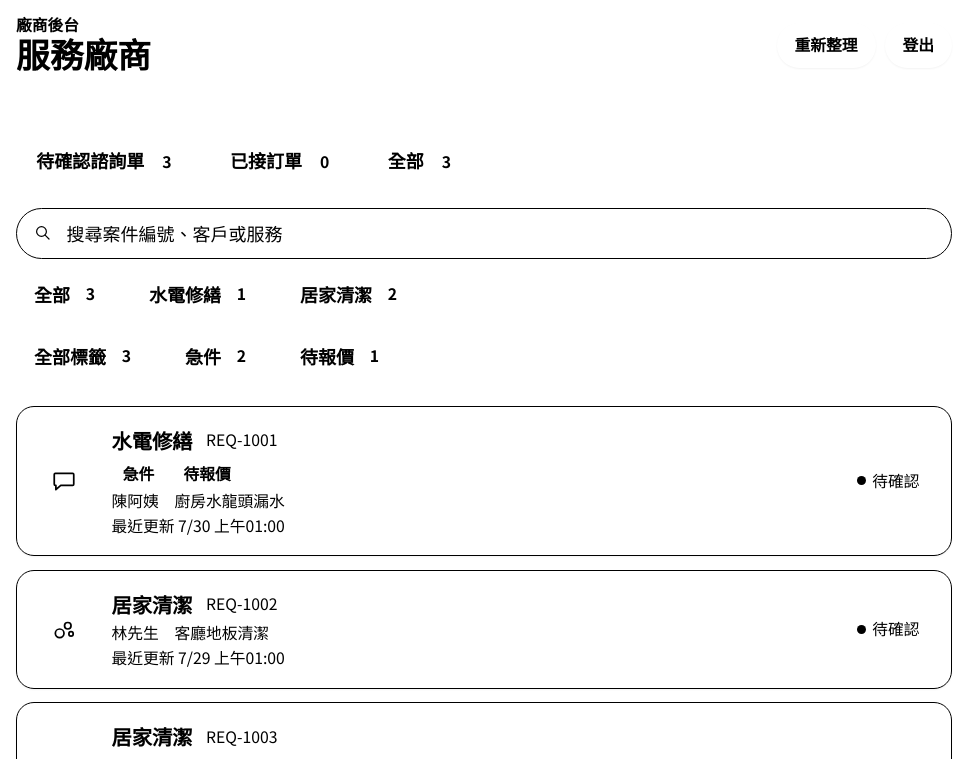
Test case: VendorRequestsPage 案件標籤 › filters the list down to the cases carrying the selected tag
Check: the element named "標籤篩選" is shown, box [16,334,406,378]
Click the button "待報價 1": {"x": 344, "y": 356} [282,334,406,378]
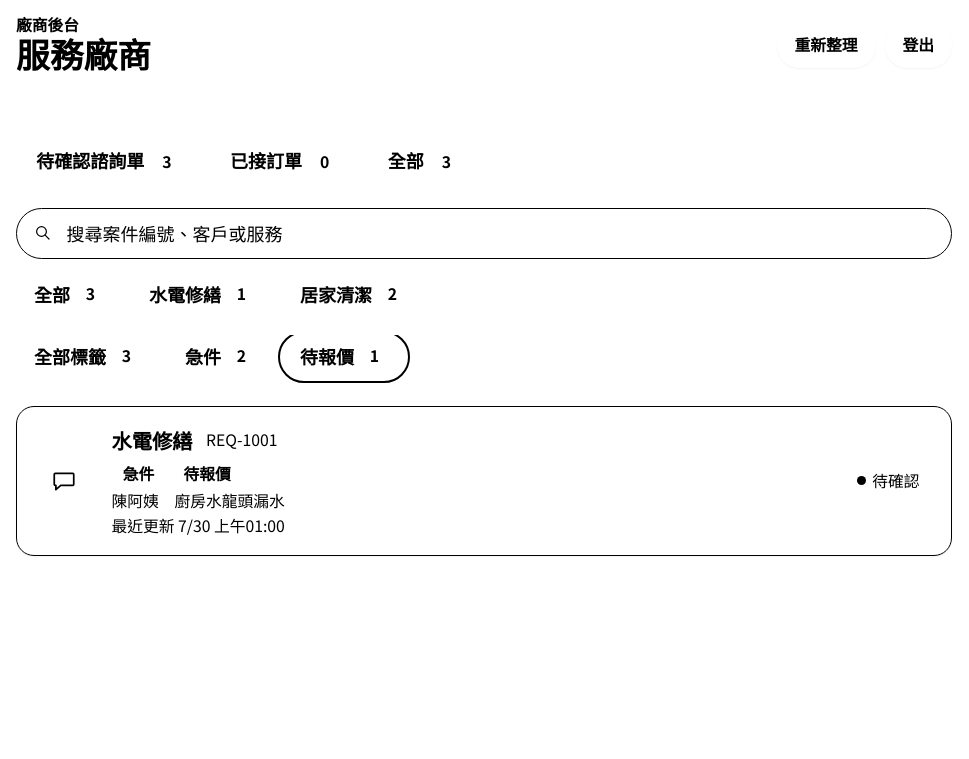
Check: the text "REQ-1001" is shown, box [206,429,277,452]
Check: the link "REQ-1002" is gone
Check: the link "REQ-1003" is gone
